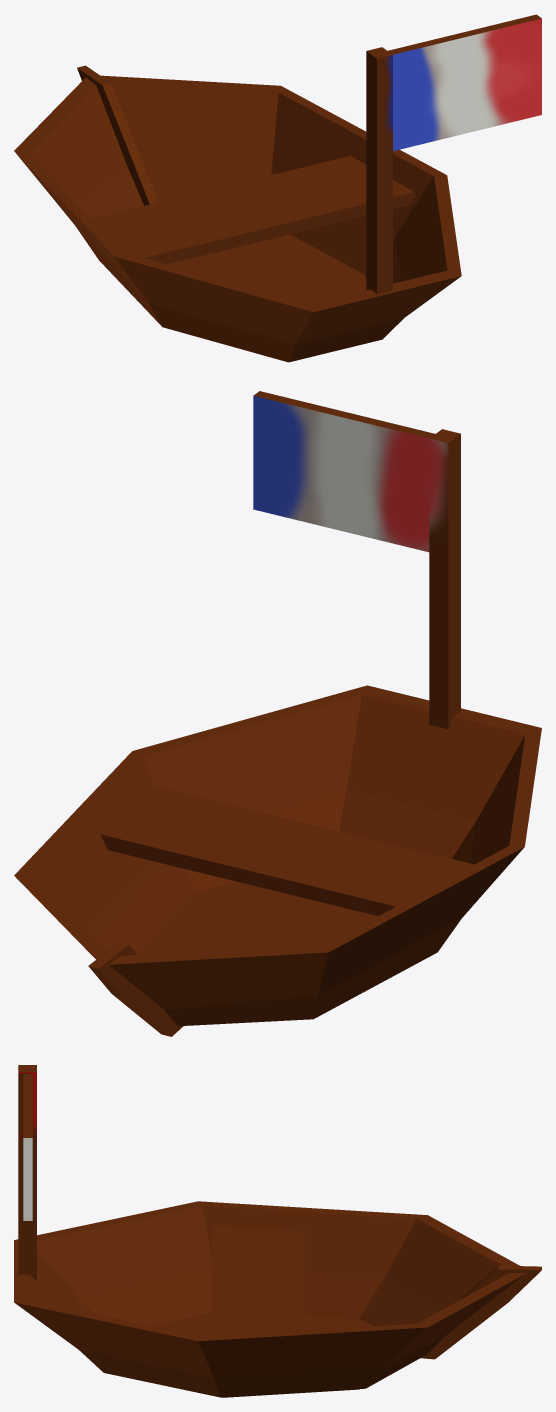
Rendered from bateau.glb.
The picture shows the model from 3 angles, top to bottom: view 1: azimuth 30°, elevation 25°; view 2: azimuth 150°, elevation 25°; view 3: azimuth 270°, elevation 25°; orthographic projection. The views are drawn at different scales.
Parts seen in each view (by area): view 1: Bateau; view 2: Bateau; view 3: Bateau.
Boxes of the visible parts, x1,y1,x2,y2 form: Bateau: (14, 14, 541, 362); Bateau: (14, 391, 541, 1036); Bateau: (14, 1065, 541, 1397).
Size of the model in its own units: 7.22 by 6.95 by 11.5.
1 material, 1 textured.
